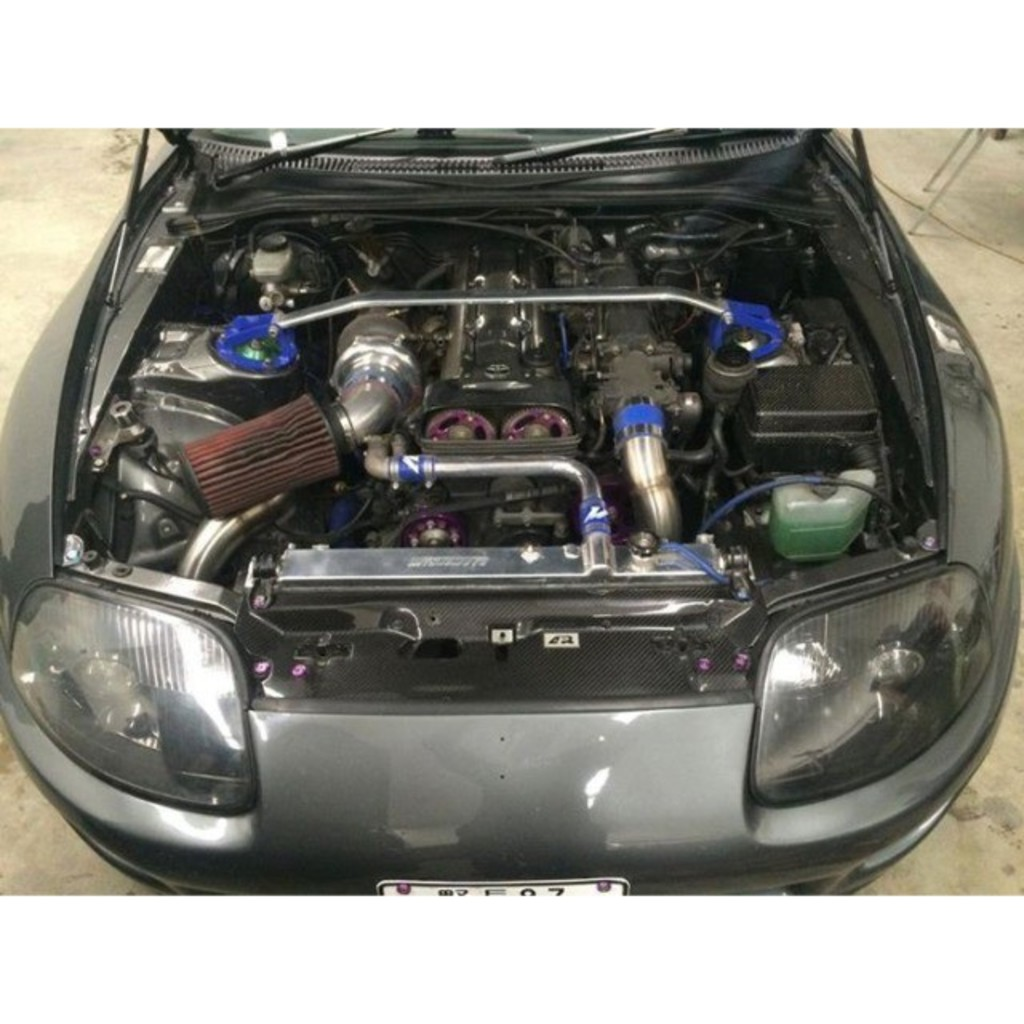Car: (0, 128, 1020, 896)
